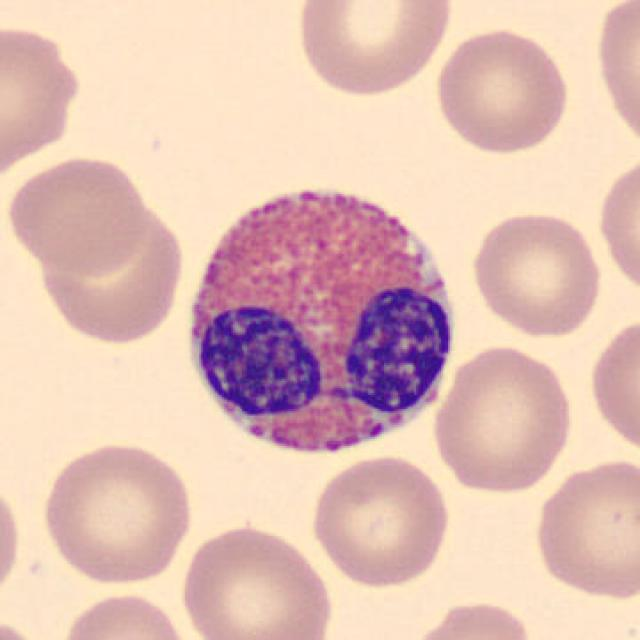Eosinophil: (175, 162, 470, 476)
RBC: (28, 187, 192, 347), (36, 437, 198, 587), (428, 340, 578, 497), (307, 451, 453, 589), (176, 520, 338, 640), (430, 23, 572, 157), (466, 207, 606, 341), (2, 152, 151, 275), (291, 0, 457, 99), (530, 453, 638, 603), (0, 19, 87, 187), (585, 310, 638, 462), (592, 0, 640, 155), (55, 589, 192, 640), (594, 150, 638, 301), (409, 596, 537, 640), (0, 469, 25, 610), (0, 612, 53, 640)
